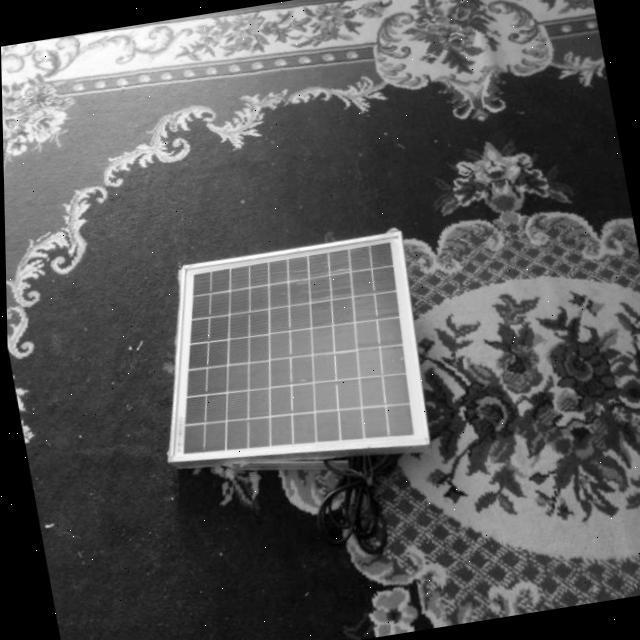Normal Solar Panel: (134, 230, 437, 485)
